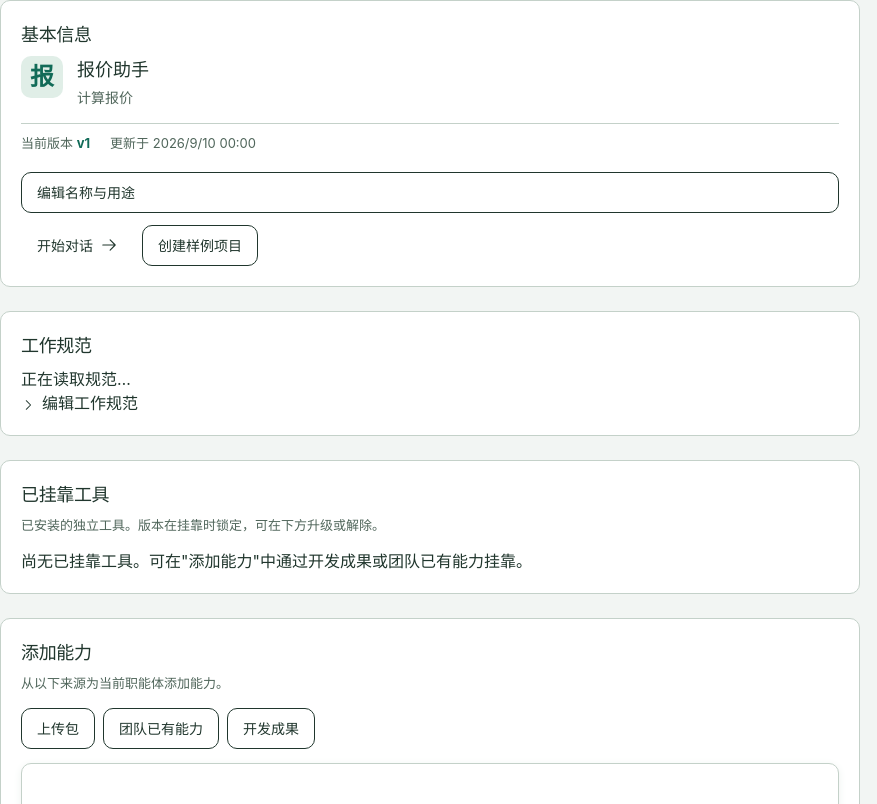
Scenario: basic info section shows edit button for admin and can open editor
The width and height of the screenshot is (877, 804).
Check: the heading "报价助手" is shown, box 77,56 -> 149,83
Click the button "编辑名称与用途" at (86, 192), box 21,172 -> 839,213
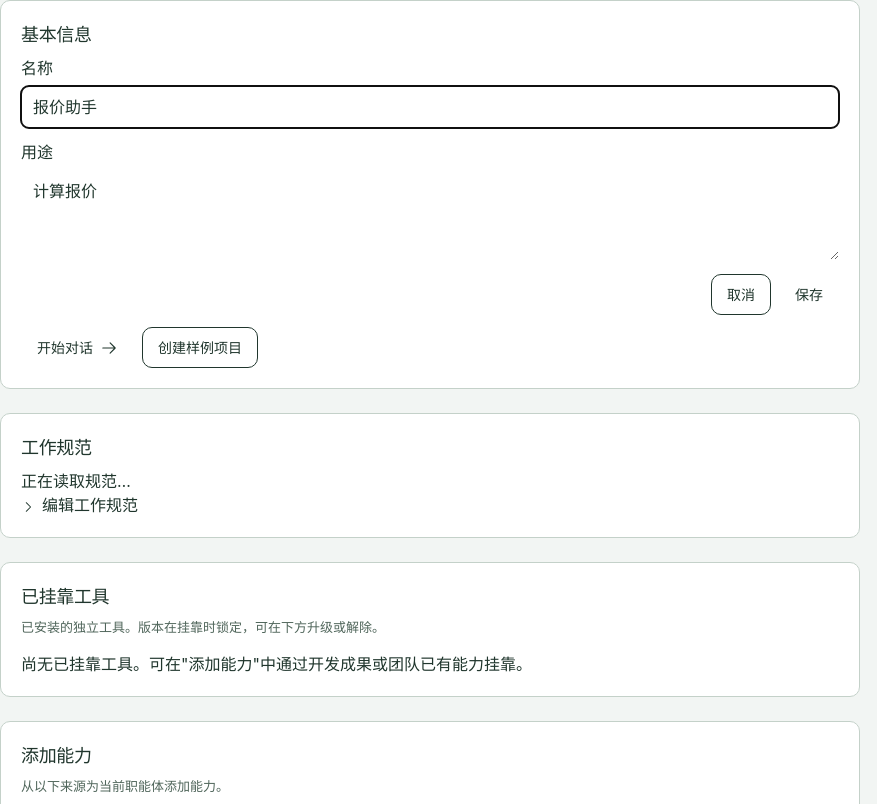
Check: the form with test id "metadata-editor" is shown, box 21,56 -> 839,315
